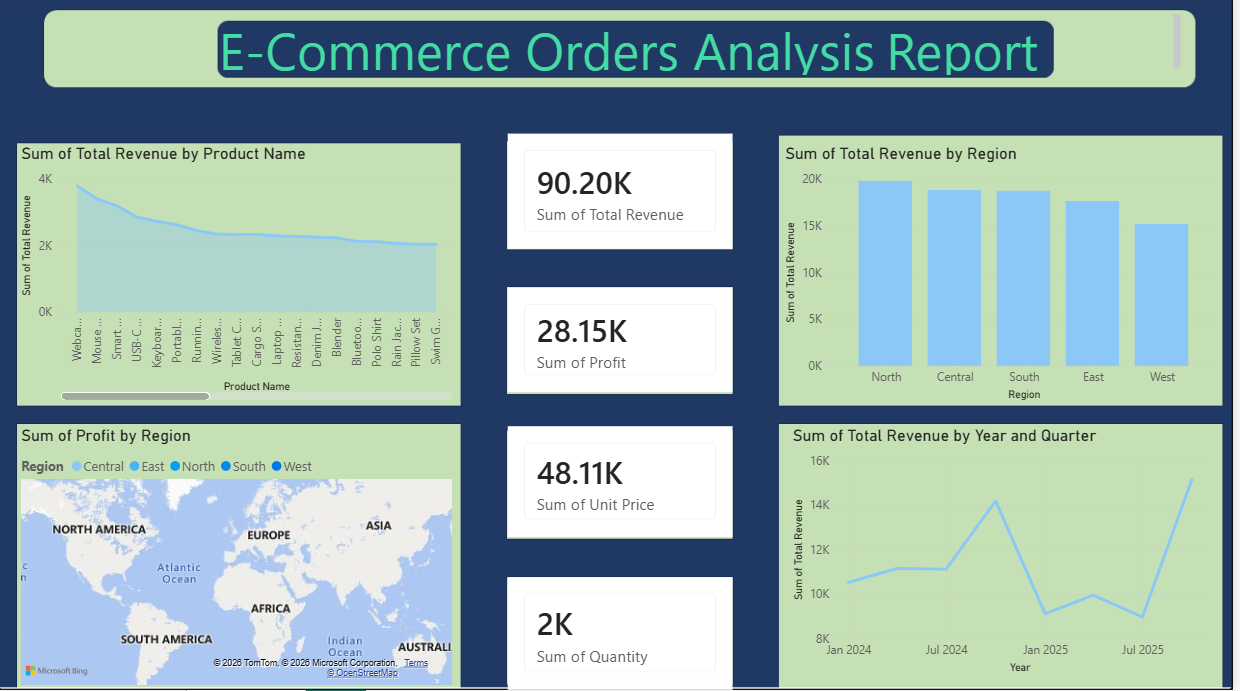

Layout of this report page (visuals, bound fields, positions):
{"tool":"powerbi","page":{"name":"Page 3","canvas":[1280,720],"ordinal":0},"visuals":[{"type":"areaChart","fields":{"Category":["E-Commerce Orders.Product Name"],"Y":["Sum(E-Commerce Orders.Total Revenue)"]},"box":[19.2,154.9,456.7,269.9],"z":0},{"type":"filledMap","fields":{"Series":["E-Commerce Orders.Region"]},"box":[19.2,447.1,456.7,273.1],"z":1000},{"type":"clusteredColumnChart","fields":{"Category":["E-Commerce Orders.Region"],"Y":["Sum(E-Commerce Orders.Total Revenue)"]},"box":[811.2,154.9,458.3,269.9],"z":2000},{"type":"lineChart","fields":{"Category":["E-Commerce Orders.Order Date.Variation.Date Hierarchy.Year","E-Commerce Orders.Order Date.Variation.Date Hierarchy.Quarter","E-Commerce Orders.Order Date.Variation.Date Hierarchy.Month","E-Commerce Orders.Order Date.Variation.Date Hierarchy.Day"],"Y":["Sum(E-Commerce Orders.Total Revenue)"]},"box":[819.2,447.1,445.5,260.3],"z":3000},{"type":"cardVisual","fields":{"Data":["Sum(E-Commerce Orders.Total Revenue)"]},"box":[528.5,143.7,233.1,119.8],"z":4000},{"type":"cardVisual","fields":{"Data":["Sum(E-Commerce Orders.Profit)"]},"box":[528.5,303.4,233.1,108.6],"z":5000},{"type":"cardVisual","fields":{"Data":["Sum(E-Commerce Orders.Unit Price)"]},"box":[528.5,447.1,233.1,115],"z":6000},{"type":"cardVisual","fields":{"Data":["Sum(E-Commerce Orders.Quantity)"]},"box":[528.5,603.6,233.1,116.6],"z":7000},{"type":"textbox","box":[223.5,14.4,1007.6,73.5],"z":8000}]}

Visuals, with their boxes in screenshot pixels (x1, y1, x2, y2), scaled from the page's 1280x720 canvas onto the 1240x691 screenshot:
areaChart - E-Commerce Orders.Product Name x Sum(E-Commerce Orders.Total Revenue): (left=19, top=149, right=461, bottom=408)
filledMap - E-Commerce Orders.Region: (left=19, top=429, right=461, bottom=690)
clusteredColumnChart - E-Commerce Orders.Region x Sum(E-Commerce Orders.Total Revenue): (left=786, top=149, right=1230, bottom=408)
lineChart - E-Commerce Orders.Order Date.Variation.Date Hierarchy.Year x E-Commerce Orders.Order Date.Variation.Date Hierarchy.Quarter: (left=794, top=429, right=1225, bottom=679)
cardVisual - Sum(E-Commerce Orders.Total Revenue): (left=512, top=138, right=738, bottom=253)
cardVisual - Sum(E-Commerce Orders.Profit): (left=512, top=291, right=738, bottom=395)
cardVisual - Sum(E-Commerce Orders.Unit Price): (left=512, top=429, right=738, bottom=539)
cardVisual - Sum(E-Commerce Orders.Quantity): (left=512, top=579, right=738, bottom=690)
textbox: (left=217, top=14, right=1193, bottom=84)
